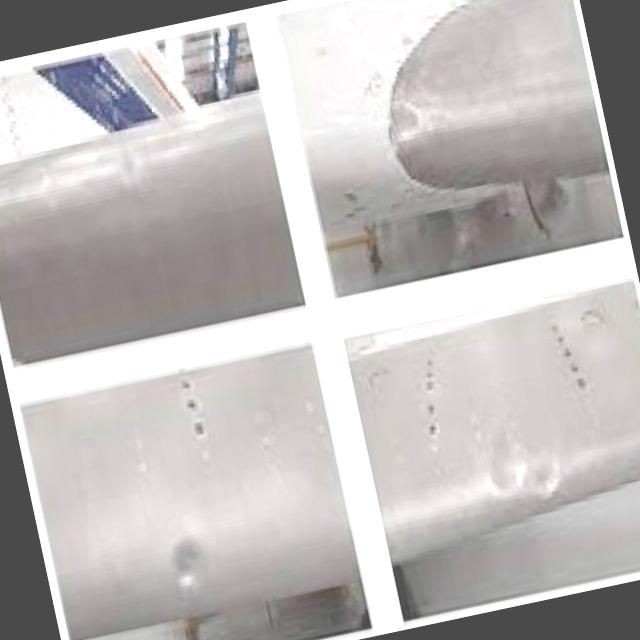dent: (486, 416, 559, 503), (54, 146, 140, 184), (383, 93, 427, 145), (171, 539, 203, 591)
